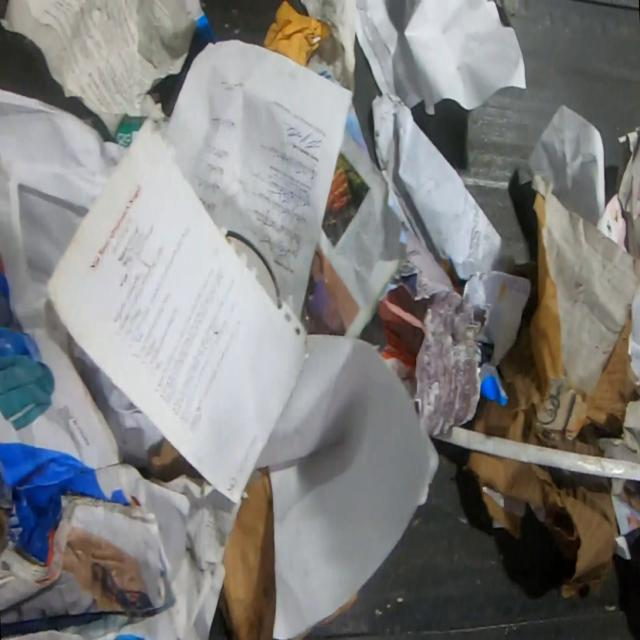cardboard: (0, 248, 191, 639), (469, 173, 640, 459), (460, 448, 619, 598), (217, 464, 276, 640), (150, 434, 206, 485), (314, 589, 358, 627), (290, 624, 313, 640)
